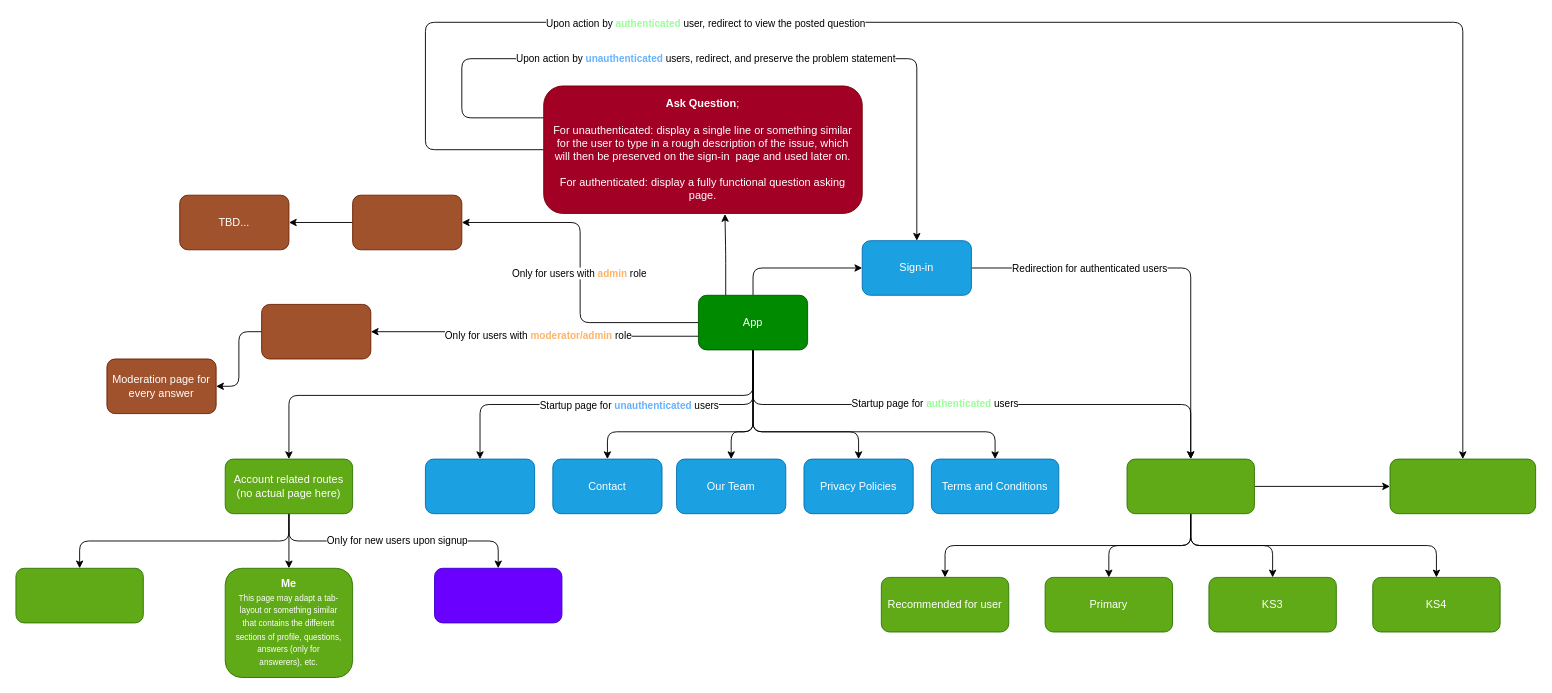
This 1552x693 diagram has some shape labels left out. Here are the shapes that lost their labels. From the top down, the box of each, then its label:
(352, 194, 462, 250): Admin Panel
(261, 303, 371, 359): Moderator Panel
(425, 458, 535, 514): Landing
(1126, 458, 1254, 514): Homepage - Questions Display
(1389, 458, 1536, 514): Individual question (editable by the user that posted it)
(15, 567, 143, 623): Account settings
(434, 567, 562, 623): Set initial username
